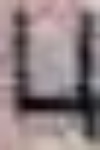TS_RUS: (0, 0, 99, 149)
